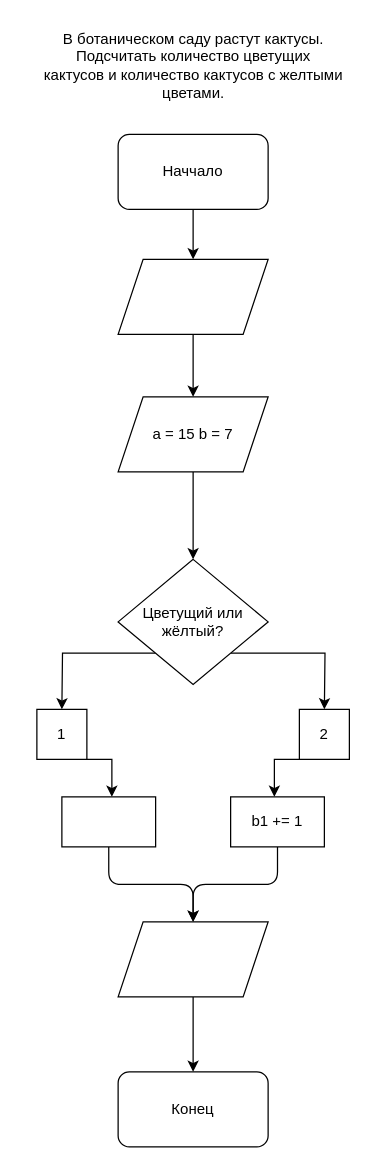
The diagram is 386 pixels wide and 1169 high, and some of its shapes have lost their labels. The shapes that lost their labels are listed below. From the top down, each one's centre as x and y in pixels, then its label:
the point at 192,296: a1 = 0 b1 = 0
the point at 108,821: a1 += 1
the point at 192,959: a1; b1
